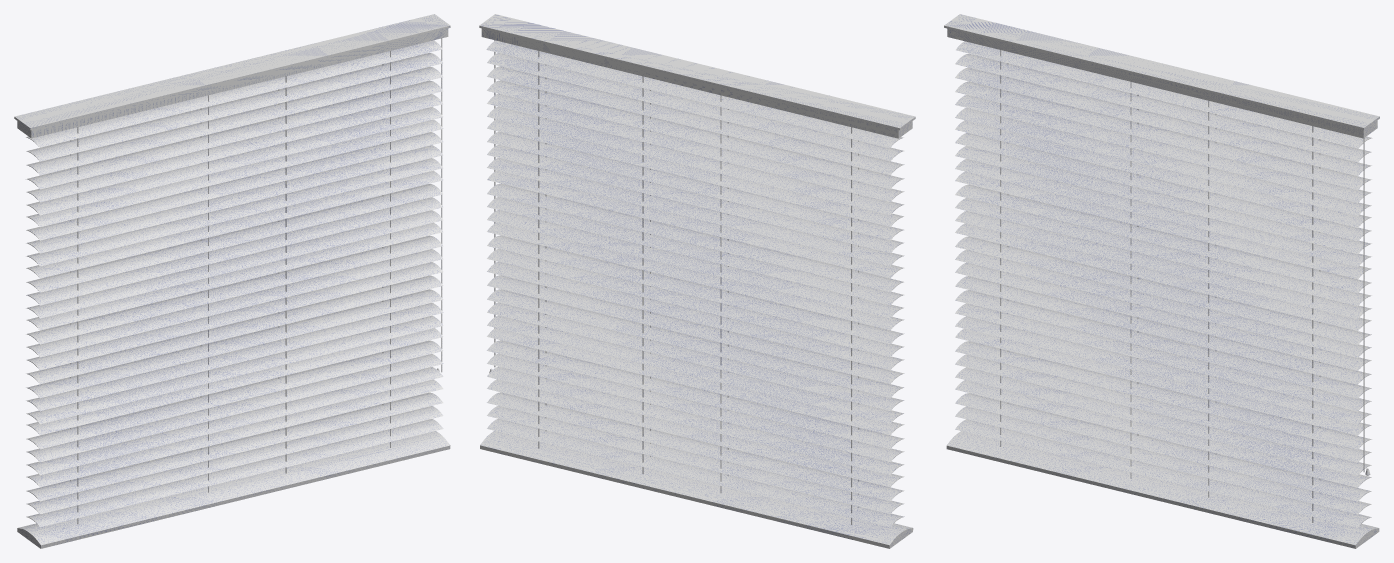
File: blinds.dae
3 views of the same model, side by side, from view 1: azimuth 30°, elevation 25°; view 2: azimuth 150°, elevation 25°; view 3: azimuth 330°, elevation 25° (orthographic).
Visible parts, largest first — view 1: BLIND (×34); view 2: BLIND (×37); view 3: BLIND (×34).
Part boxes in pixels (x1,y1,x2,y2): BLIND (×34): [14, 14, 450, 548]; BLIND (×37): [479, 14, 915, 548]; BLIND (×34): [944, 14, 1379, 548].
Bounding box in the file's own units: 62.72 × 6.12 × 59.82.
